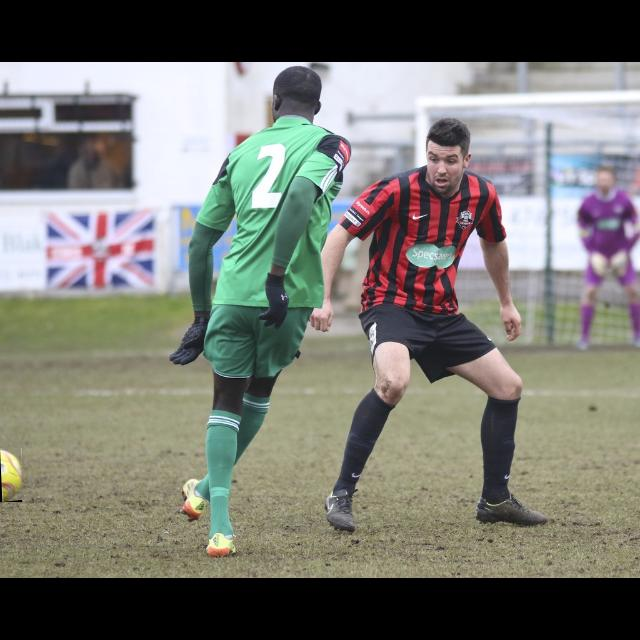Football: (0, 448, 22, 502)
